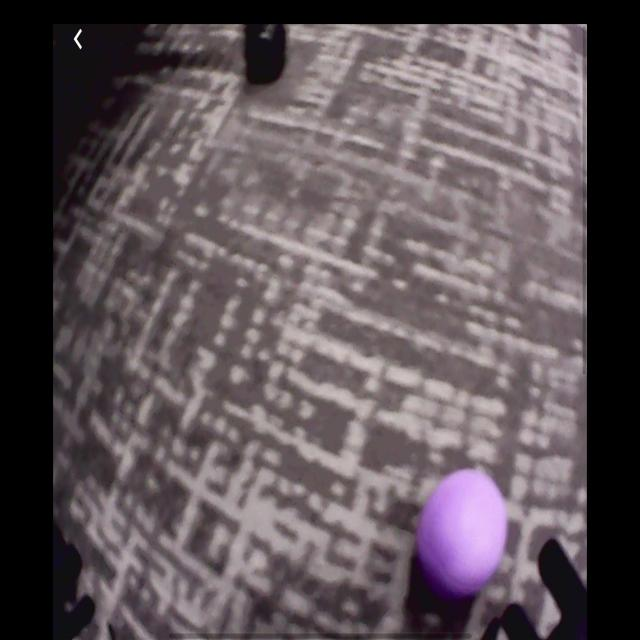ball: (420, 470, 508, 599)
